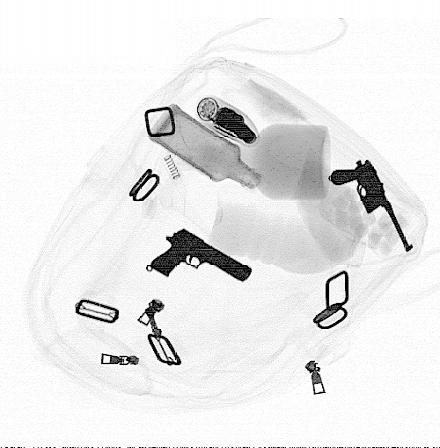Gun: (329, 159, 415, 254), (148, 228, 253, 283)
